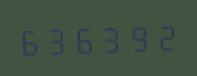nine: (126, 19, 152, 54)
six: (72, 20, 98, 56), (17, 22, 43, 57)
three: (99, 19, 125, 55), (44, 21, 70, 56)
two: (153, 18, 179, 53)
